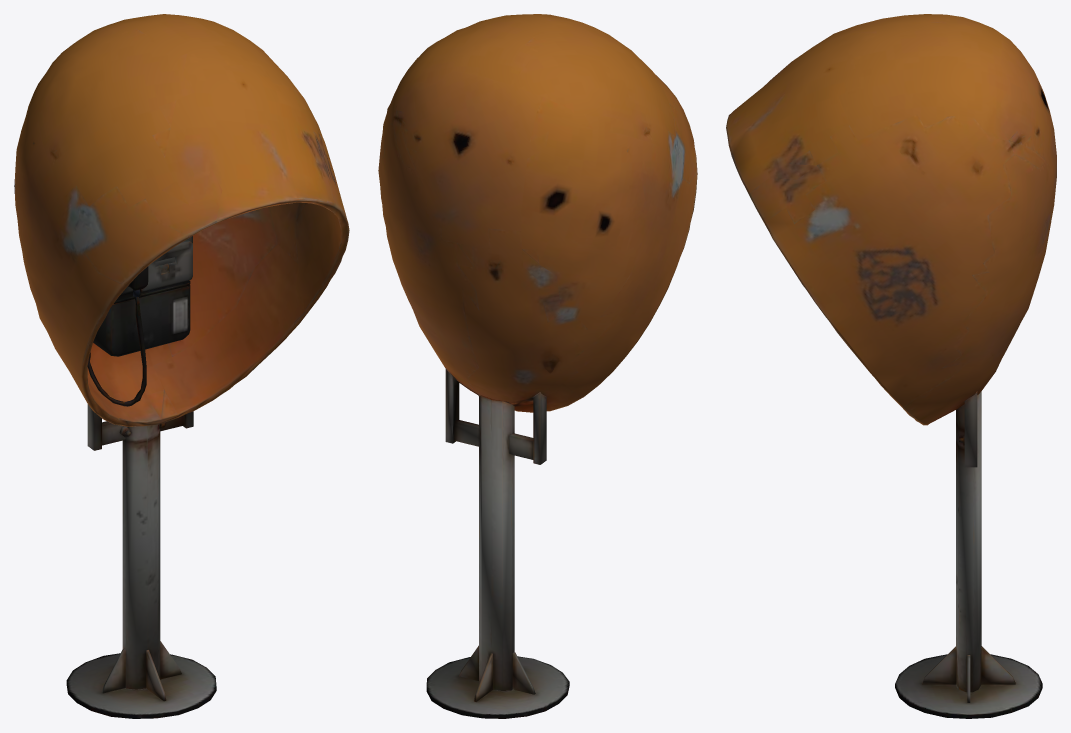
The model's file is javaporcos_mint_orelhao.glb.
3 renders of one model, left to right at view 1: azimuth 30°, elevation 25°; view 2: azimuth 150°, elevation 25°; view 3: azimuth 270°, elevation 25°, orthographic. The views are drawn at different scales.
Parts seen in each view (by area): view 1: Orelhão; view 2: Orelhão; view 3: Orelhão.
Part boxes in pixels (<box>): Orelhão: <box>14,14,349,718</box>; Orelhão: <box>378,14,697,718</box>; Orelhão: <box>726,14,1056,718</box>.
Bounding box in the file's own units: 0.9084 × 2.2 × 1.
1 material, 1 textured.
